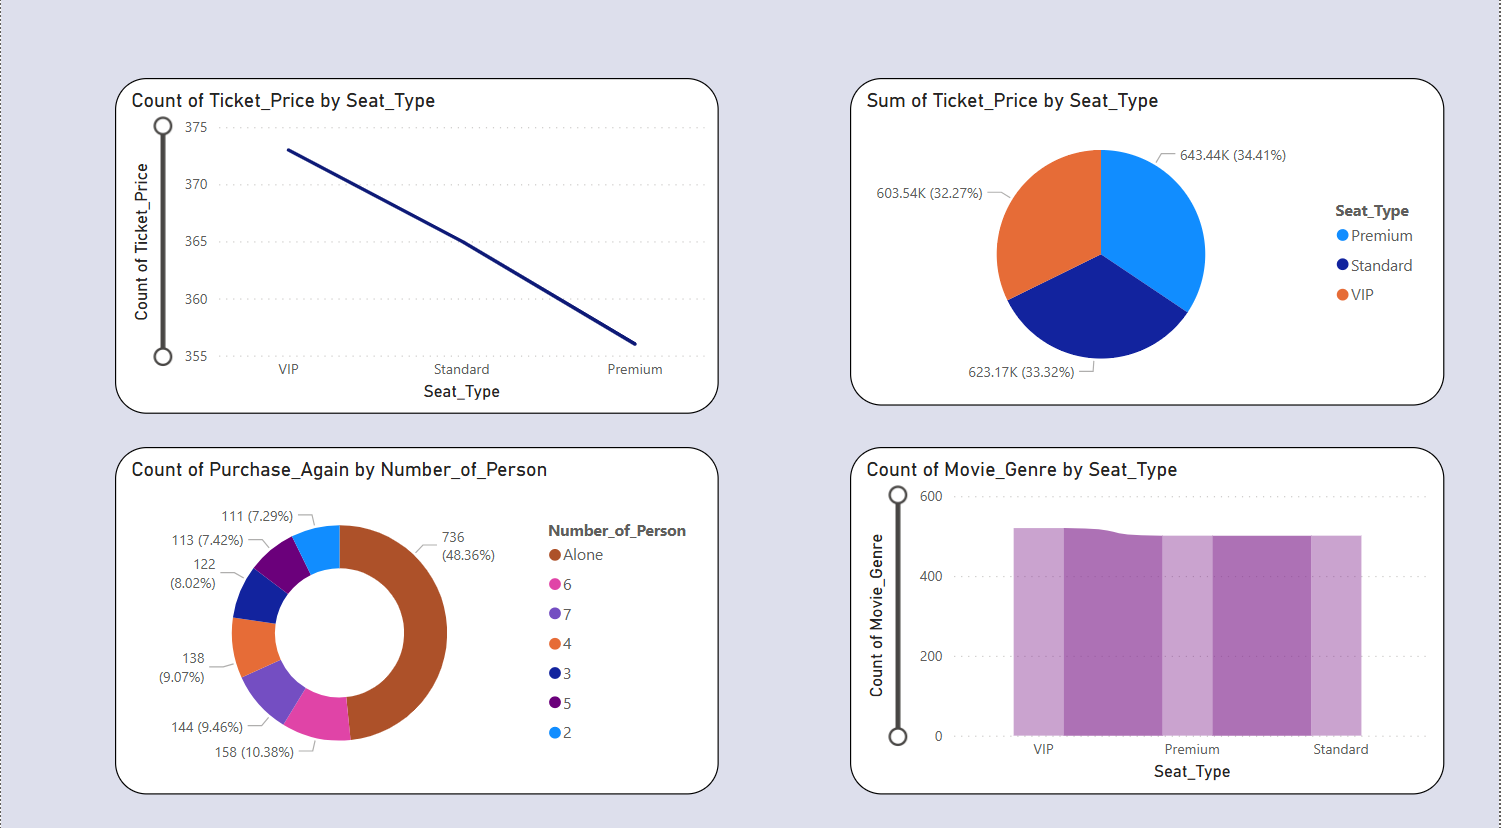

This screenshot's page, from the dashboard's own definition file:
{"tool":"powerbi","page":{"name":"Page 3","canvas":[1280,720],"ordinal":2},"visuals":[{"type":"lineChart","fields":{"Y":["Count(cleaned_dataset.Ticket_Price)"],"Category":["cleaned_dataset.Seat_Type"]},"box":[97.5,72.5,515.8,287.2],"z":0},{"type":"pieChart","fields":{"Category":["cleaned_dataset.Seat_Type"],"Y":["Sum(cleaned_dataset.Ticket_Price)"]},"box":[725.4,72.5,508,280.3],"z":1000},{"type":"donutChart","fields":{"Category":["cleaned_dataset.Number_of_Person"],"Y":["CountNonNull(cleaned_dataset.Purchase_Again)"]},"box":[97.5,388.1,515.8,296.7],"z":2000},{"type":"ribbonChart","fields":{"Category":["cleaned_dataset.Seat_Type"],"Y":["CountNonNull(cleaned_dataset.Movie_Genre)"]},"box":[725.4,388.1,508,296.7],"z":3000}]}

Visuals, with their boxes in screenshot pixels (x1, y1, x2, y2), scaled from the page's 1280x720 canvas onto the 1502x828 screenshot:
lineChart - Count(cleaned_dataset.Ticket_Price) x cleaned_dataset.Seat_Type: detection(114, 83, 720, 414)
pieChart - cleaned_dataset.Seat_Type x Sum(cleaned_dataset.Ticket_Price): detection(851, 83, 1447, 406)
donutChart - cleaned_dataset.Number_of_Person x CountNonNull(cleaned_dataset.Purchase_Again): detection(114, 446, 720, 788)
ribbonChart - cleaned_dataset.Seat_Type x CountNonNull(cleaned_dataset.Movie_Genre): detection(851, 446, 1447, 788)
